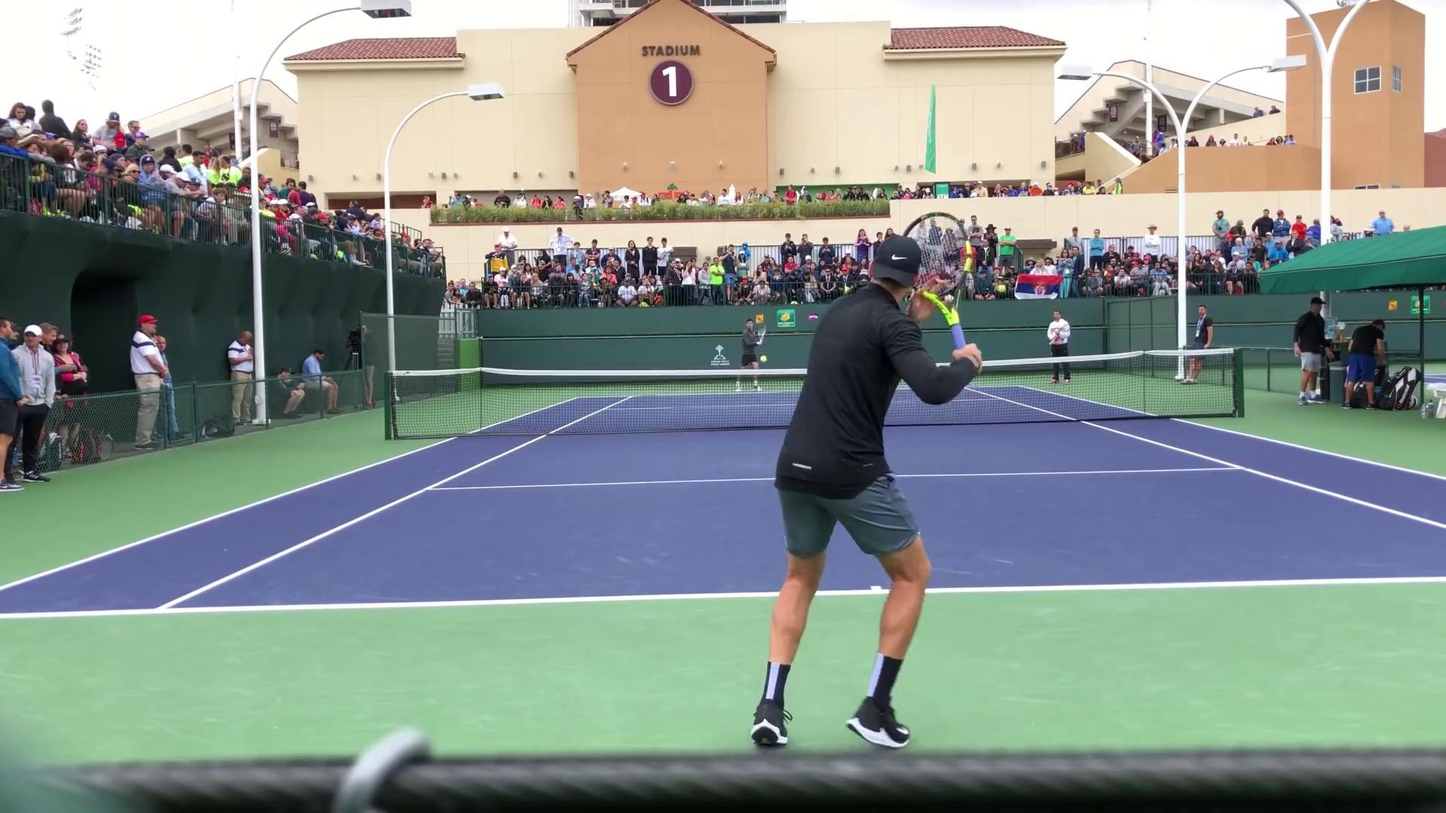ball: (759, 355, 768, 362)
